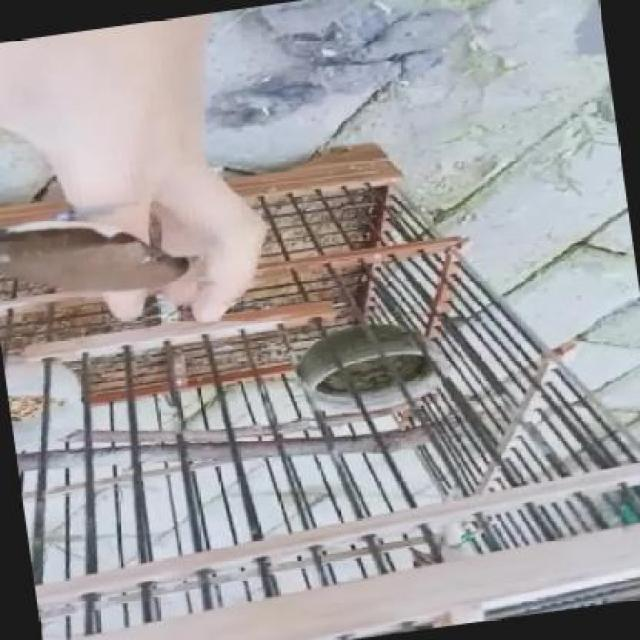Bird: (0, 213, 194, 298)
